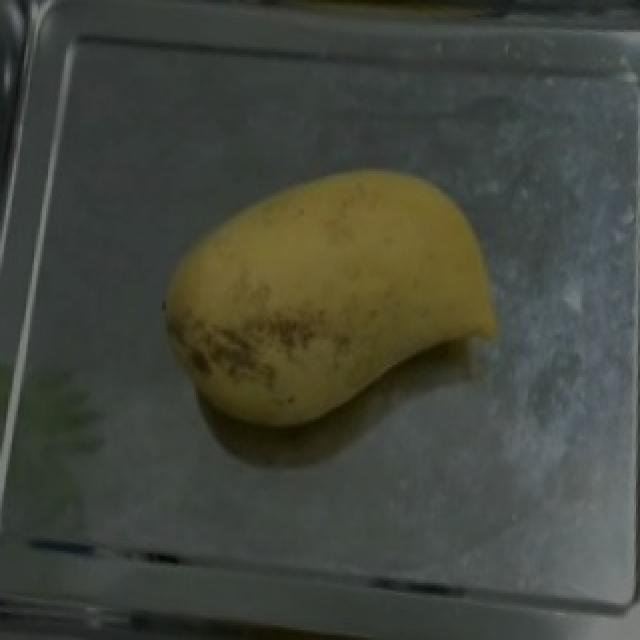fruit: (146, 139, 522, 464)
